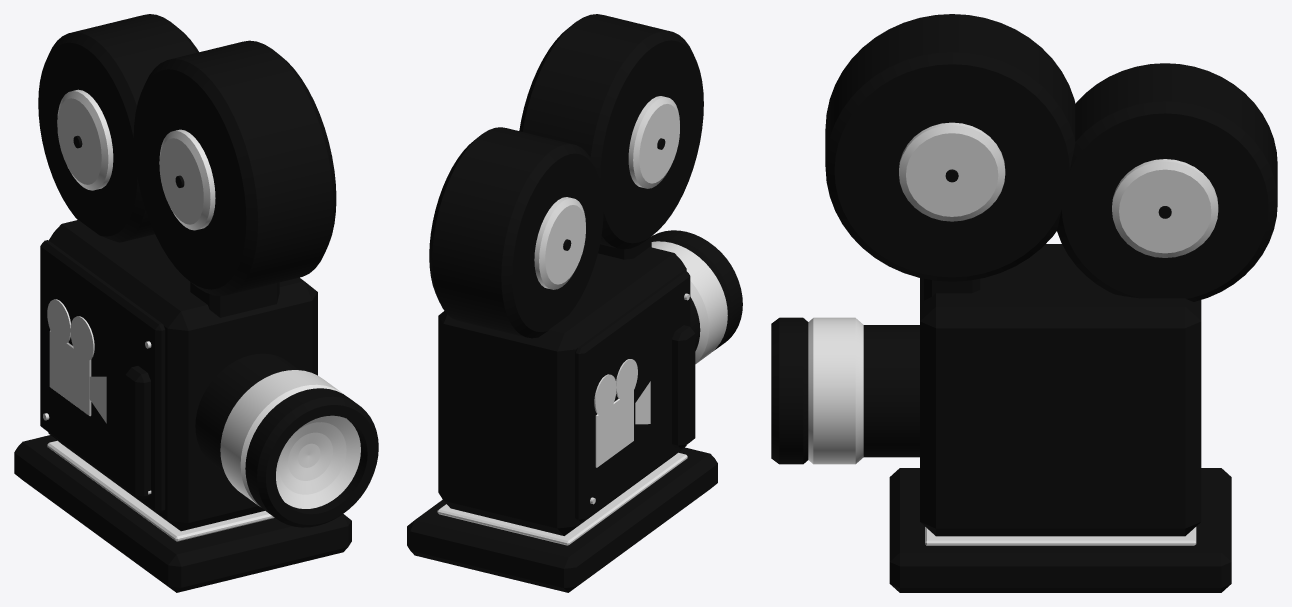
File: camera_entity.obj
The picture shows the model from 3 angles, left to right: view 1: azimuth 30°, elevation 25°; view 2: azimuth 150°, elevation 25°; view 3: azimuth 270°, elevation 25°; orthographic projection. The views are drawn at different scales.
Visible parts, largest first — view 1: front_reel, body, rear_reel, side_cover, base, black_lens_rim, recessed_lens, white_lens_bezel, front_hub_-1, rear_hub_-1, lens_barrel, side_handle (+6 smaller); view 2: body, rear_reel, front_reel, base, side_cover, rear_hub_-1, front_hub_-1, white_lens_bezel, side_handle, base_trim, black_lens_rim, emblem_body (+4 smaller); view 3: body, front_reel, rear_reel, base, rear_hub_1, front_hub_1, white_lens_bezel, lens_barrel, black_lens_rim, base_trim, front_reel_mount.
Part boxes in pixels (x1,y1,x2,y2): front_reel: (133, 40, 336, 296); body: (48, 220, 317, 531); rear_reel: (38, 14, 198, 242); side_cover: (40, 240, 165, 513); base: (14, 435, 351, 592); black_lens_rim: (245, 388, 378, 527); recessed_lens: (276, 415, 360, 508); white_lens_bezel: (220, 370, 346, 506); front_hub_-1: (159, 129, 215, 230); rear_hub_-1: (57, 89, 113, 190); lens_barrel: (195, 353, 299, 472); side_handle: (125, 366, 150, 499); body: (438, 247, 686, 535); rear_reel: (429, 127, 603, 338); front_reel: (519, 14, 703, 249); base: (407, 447, 717, 592); side_cover: (575, 270, 690, 521); rear_hub_-1: (534, 197, 585, 289); front_hub_-1: (628, 96, 679, 188); white_lens_bezel: (651, 241, 727, 364); side_handle: (672, 325, 695, 448); base_trim: (437, 452, 687, 545); black_lens_rim: (651, 230, 742, 351); emblem_body: (595, 390, 633, 467); body: (920, 244, 1201, 536); front_reel: (825, 14, 1075, 281); rear_reel: (1057, 63, 1277, 301); base: (889, 468, 1231, 592); rear_hub_1: (1112, 159, 1218, 257); front_hub_1: (899, 122, 1005, 221); white_lens_bezel: (808, 317, 863, 464); lens_barrel: (863, 325, 919, 457); black_lens_rim: (771, 317, 808, 464); base_trim: (925, 527, 1196, 545); front_reel_mount: (924, 278, 980, 300).
Bounding box in the file's own units: 7.31 × 18.46 × 16.38.
Materials: 1 (1 with a texture image).
